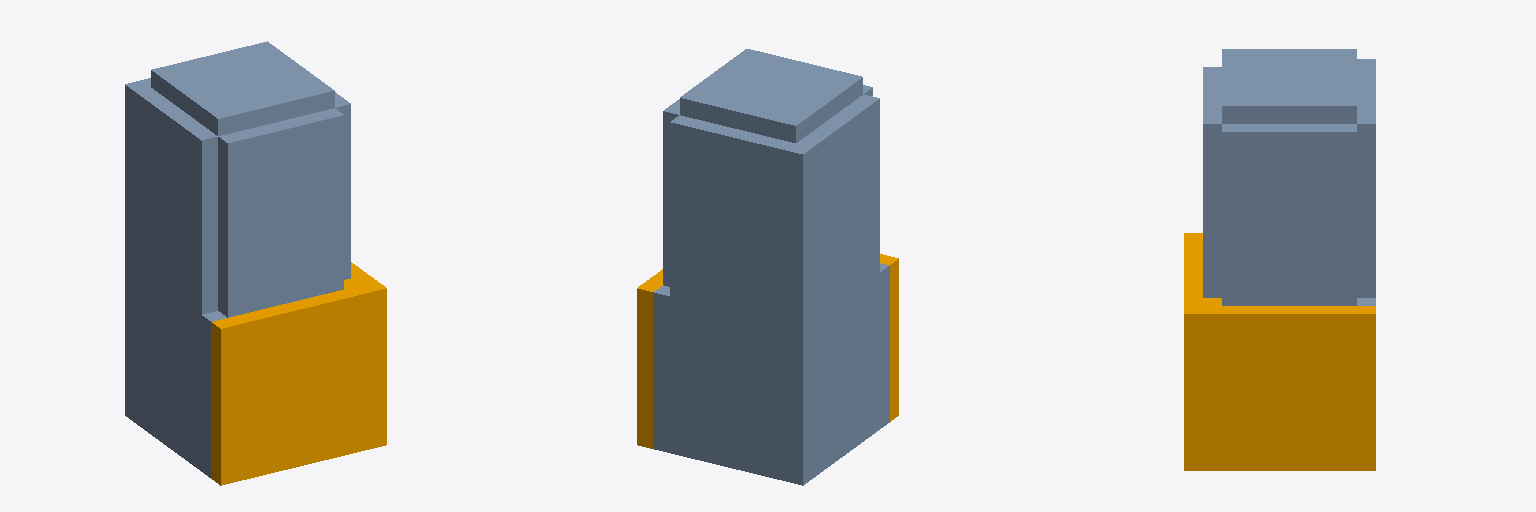
3 renders of one model, left to right at view 1: azimuth 30°, elevation 25°; view 2: azimuth 150°, elevation 25°; view 3: azimuth 270°, elevation 25°, orthographic.
Size of the model in its own units: 10 by 20 by 10.
Materials: 1 (1 with a texture image).